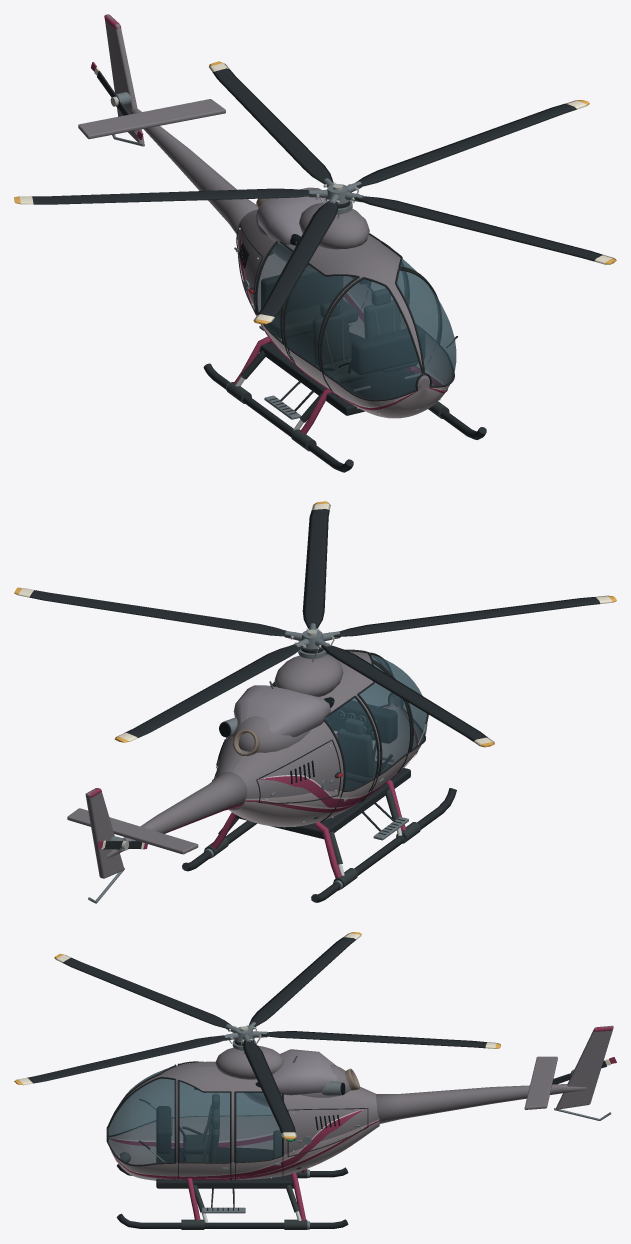
The picture shows the model from 3 angles, top to bottom: view 1: azimuth 30°, elevation 25°; view 2: azimuth 150°, elevation 25°; view 3: azimuth 270°, elevation 25°; orthographic projection. The views are drawn at different scales.
Visible parts, largest first — view 1: Airframe | surfaces, MainRotor | surfaces, Cabin and instruments | surfaces, Boom and stabilizers | surfaces, HUGH500 fitted exterior, Landing gear | surfaces, Powerplant and transmission | surfaces; view 2: Airframe | surfaces, MainRotor | surfaces, Boom and stabilizers | surfaces, Cabin and instruments | surfaces, HUGH500 fitted exterior, Powerplant and transmission | surfaces, Landing gear | surfaces; view 3: Airframe | surfaces, MainRotor | surfaces, Boom and stabilizers | surfaces, Cabin and instruments | surfaces, HUGH500 fitted exterior, Landing gear | surfaces, Powerplant and transmission | surfaces.
Boxes of the visible parts, x1=… form: Airframe | surfaces: x1=234, y1=189, x2=457, y2=418; MainRotor | surfaces: x1=14, y1=61, x2=616, y2=324; Cabin and instruments | surfaces: x1=259, y1=270, x2=424, y2=415; Boom and stabilizers | surfaces: x1=78, y1=14, x2=273, y2=255; HUGH500 fitted exterior: x1=226, y1=187, x2=449, y2=451; Landing gear | surfaces: x1=203, y1=336, x2=486, y2=472; Powerplant and transmission | surfaces: x1=255, y1=198, x2=369, y2=271; Airframe | surfaces: x1=212, y1=649, x2=428, y2=827; MainRotor | surfaces: x1=14, y1=501, x2=616, y2=747; Boom and stabilizers | surfaces: x1=67, y1=772, x2=247, y2=903; Cabin and instruments | surfaces: x1=236, y1=700, x2=410, y2=839; HUGH500 fitted exterior: x1=204, y1=685, x2=420, y2=888; Powerplant and transmission | surfaces: x1=219, y1=648, x2=343, y2=752; Landing gear | surfaces: x1=182, y1=780, x2=456, y2=902; Airframe | surfaces: x1=106, y1=1055, x2=379, y2=1180; MainRotor | surfaces: x1=14, y1=932, x2=500, y2=1139; Boom and stabilizers | surfaces: x1=376, y1=1025, x2=613, y2=1123; Cabin and instruments | surfaces: x1=156, y1=1088, x2=300, y2=1188; HUGH500 fitted exterior: x1=181, y1=1049, x2=359, y2=1229; Landing gear | surfaces: x1=116, y1=1164, x2=348, y2=1229; Powerplant and transmission | surfaces: x1=215, y1=1039, x2=350, y2=1106.
Bounding box in the file's own units: 7.62 × 3.04 × 9.36.
